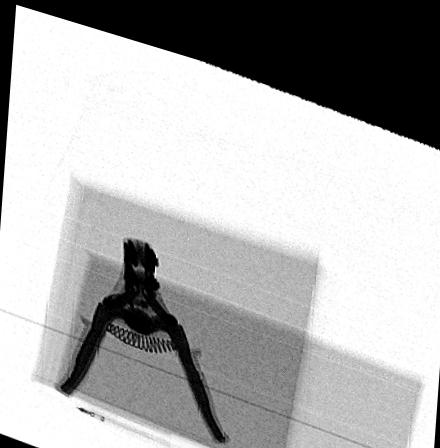Pliers: (53, 227, 230, 432)
